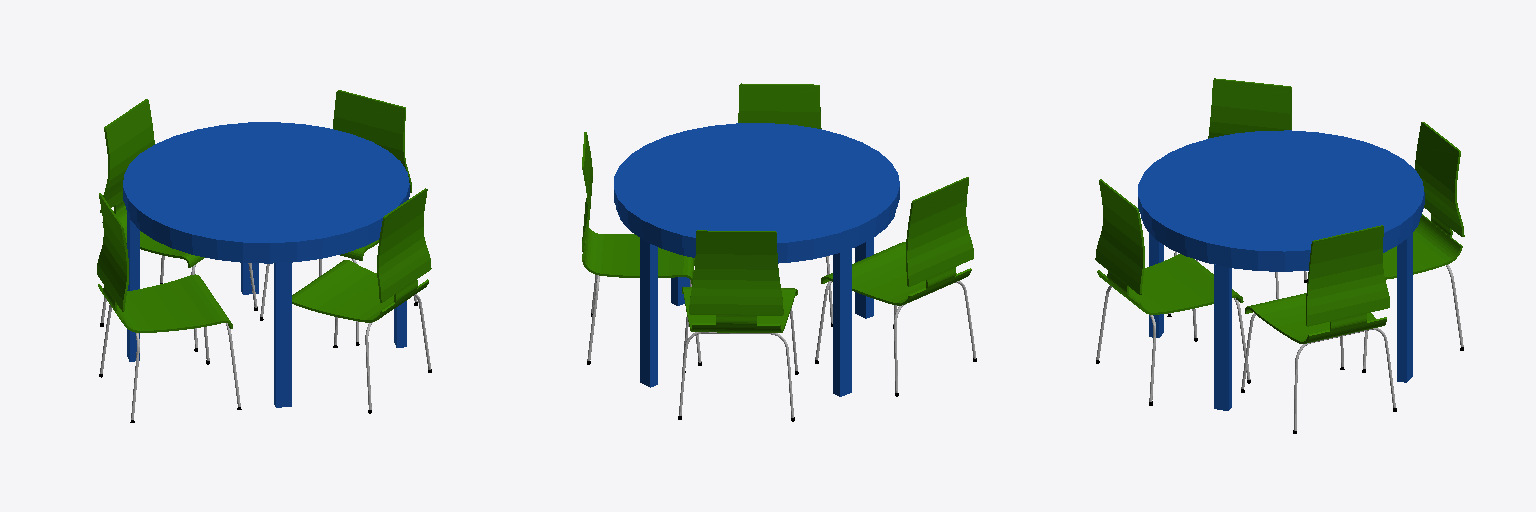
File: IKEA-Round_Bjursta_Table_and_Chairs-3D.obj
3 renders of one model, left to right at view 1: azimuth 30°, elevation 25°; view 2: azimuth 150°, elevation 25°; view 3: azimuth 270°, elevation 25°, orthographic.
Visible parts, largest first — view 1: Cylinder01, Cylinder04, Cylinder07, Cylinder06, Cylinder05; view 2: Cylinder01, Cylinder06, Cylinder07, Cylinder05, Cylinder04; view 3: Cylinder01, Cylinder05, Cylinder04, Cylinder06, Cylinder07.
Part boxes in pixels (left/top/right/bottom): Cylinder01: left=123, top=122, right=409, bottom=407; Cylinder04: left=292, top=188, right=431, bottom=413; Cylinder07: left=97, top=193, right=241, bottom=422; Cylinder06: left=100, top=99, right=257, bottom=351; Cylinder05: left=260, top=90, right=417, bottom=345; Cylinder01: left=614, top=123, right=899, bottom=396; Cylinder06: left=678, top=230, right=798, bottom=421; Cylinder07: left=815, top=177, right=976, bottom=396; Cylinder05: left=582, top=132, right=701, bottom=365; Cylinder04: left=738, top=83, right=832, bottom=326; Cylinder01: left=1138, top=130, right=1424, bottom=410; Cylinder05: left=1241, top=225, right=1396, bottom=433; Cylinder04: left=1095, top=179, right=1250, bottom=405; Cylinder06: left=1362, top=122, right=1464, bottom=372; Cylinder07: left=1167, top=78, right=1307, bottom=316.
Bounding box in the file's own units: 159 × 85.28 × 149.